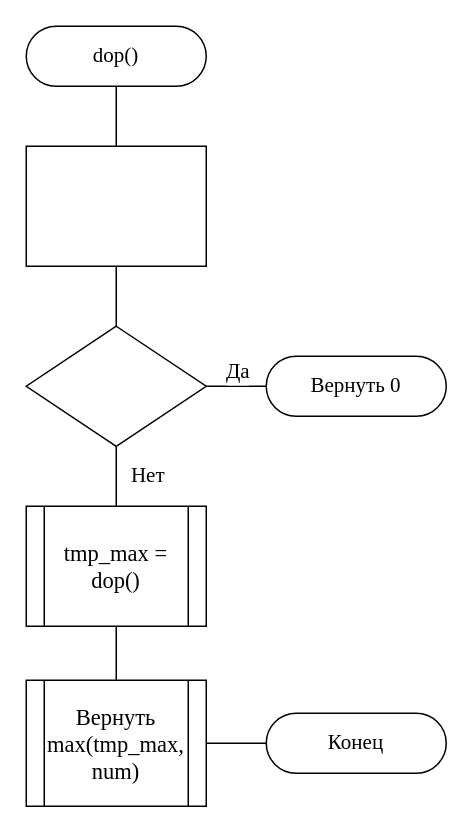
This 473x833 diagram has some shape labels left out. Here are the shapes that lost their labels. From the top down, the centre of each, then its label:
At point (115, 205): "q++, int num = arr[i], i++".
At point (115, 385): "n = 0".
